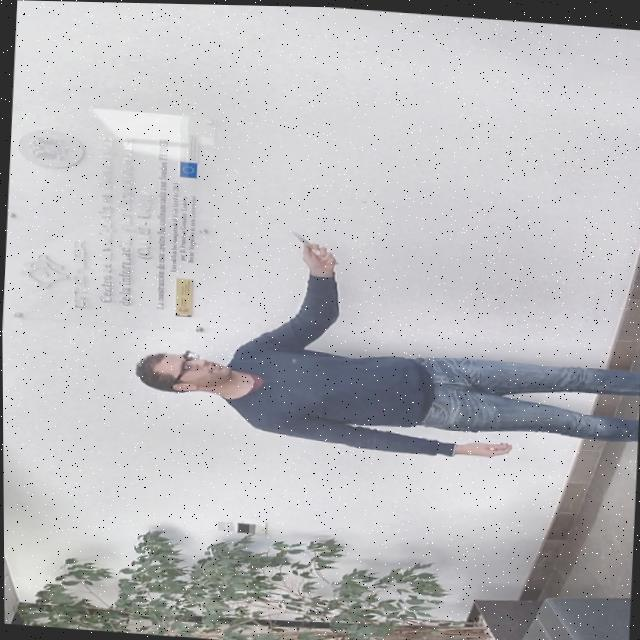knife: (287, 227, 313, 246)
